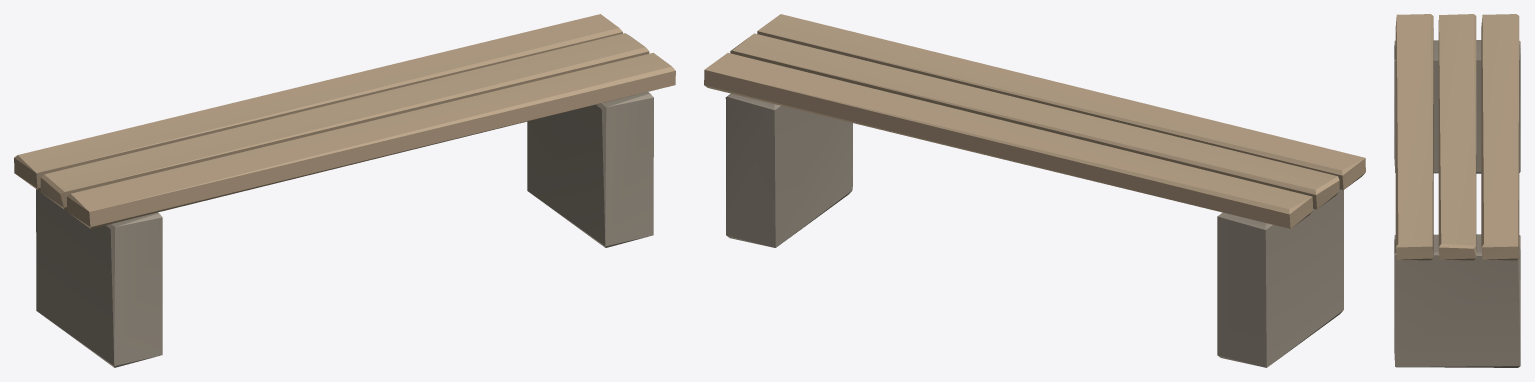
The model's file is jail_bench_low.glb.
3 views of the same model, side by side, from view 1: azimuth 30°, elevation 25°; view 2: azimuth 150°, elevation 25°; view 3: azimuth 270°, elevation 25° (orthographic). The views are drawn at different scales.
Size of the model in its own units: 1.8 by 0.48 by 0.4136.
